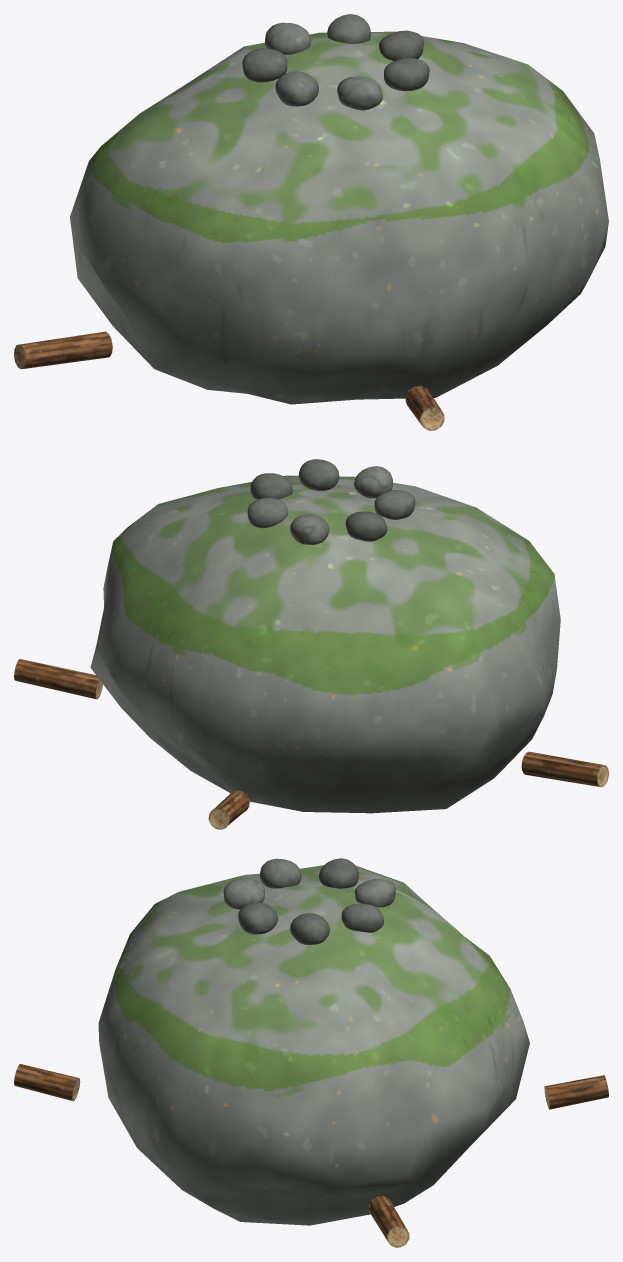
Rendered from signal_rock.glb.
3 renders of one model, top to bottom at view 1: azimuth 30°, elevation 25°; view 2: azimuth 150°, elevation 25°; view 3: azimuth 270°, elevation 25°, orthographic. The views are drawn at different scales.
Visible parts, largest first — view 1: SignalRock; view 2: SignalRock; view 3: SignalRock.
Boxes of the visible parts, x1,y1,x2,y2 form: SignalRock: [14, 14, 608, 430]; SignalRock: [14, 459, 608, 829]; SignalRock: [14, 858, 608, 1247].
Size of the model in its own units: 4.32 by 2.17 by 3.98.
1 material, 1 textured.
